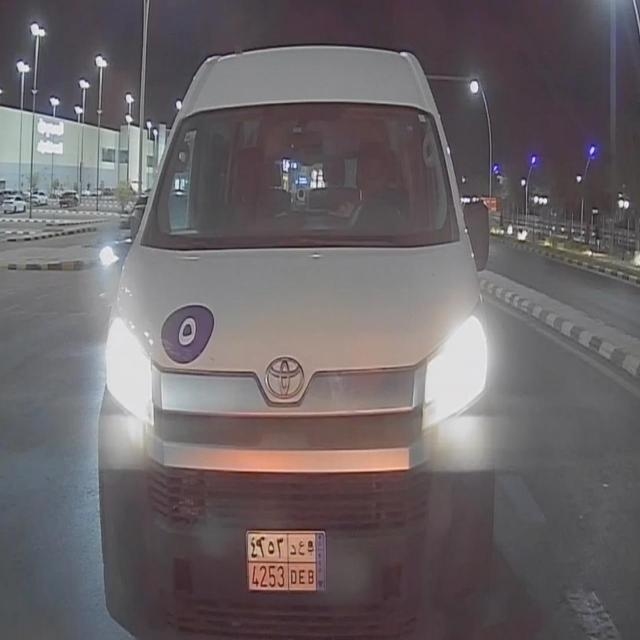person_without_seatbelt: (341, 134, 428, 235)
